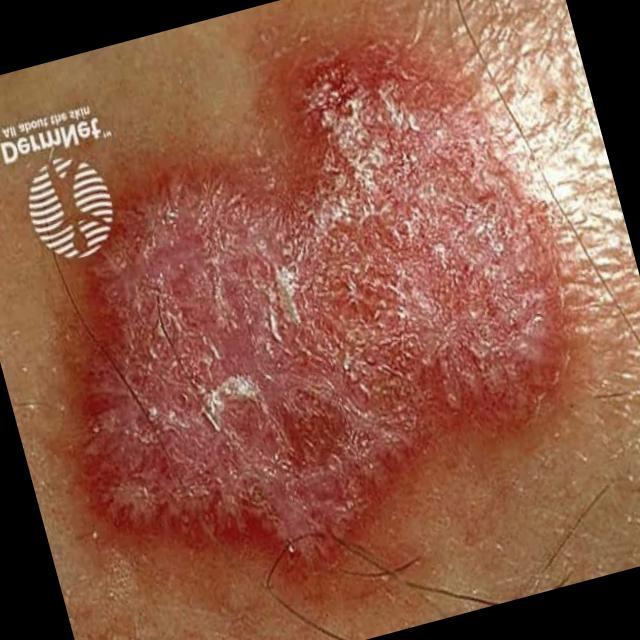Eczema: (81, 52, 560, 573)
